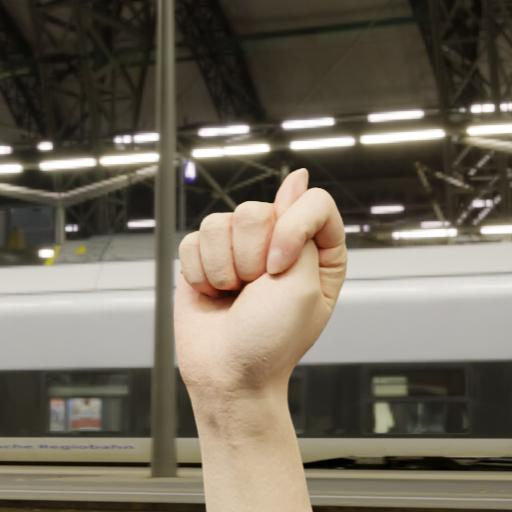T: (140, 130, 369, 435)
